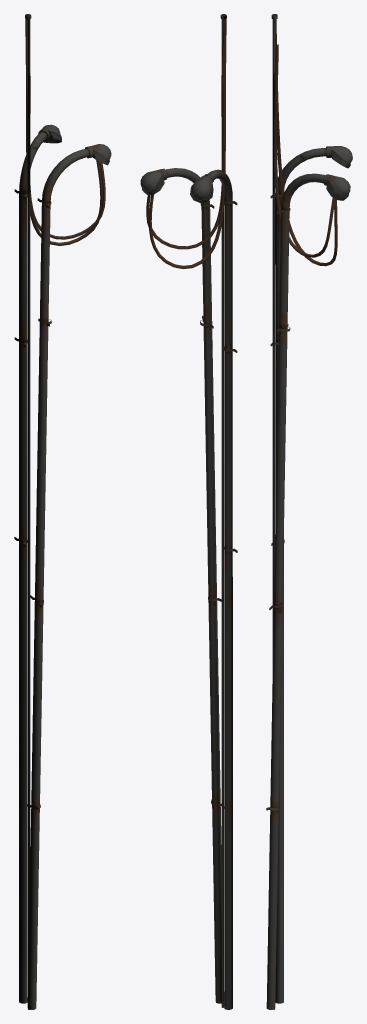
3 views of the same model, side by side, from view 1: azimuth 30°, elevation 25°; view 2: azimuth 210°, elevation 25°; view 3: azimuth 330°, elevation 25° (orthographic).
Parts seen in each view (by area): view 1: body0_model0_lod0_mesh0; view 2: body0_model0_lod0_mesh0; view 3: body0_model0_lod0_mesh0.
Boxes of the visible parts, bbox=[...] form: body0_model0_lod0_mesh0: bbox=[14, 14, 111, 1009]; body0_model0_lod0_mesh0: bbox=[140, 14, 237, 1009]; body0_model0_lod0_mesh0: bbox=[266, 14, 352, 1009].
Bounding box in the file's own units: 41.91 × 486 × 34.97.
Materials: 1 (1 with a texture image).
